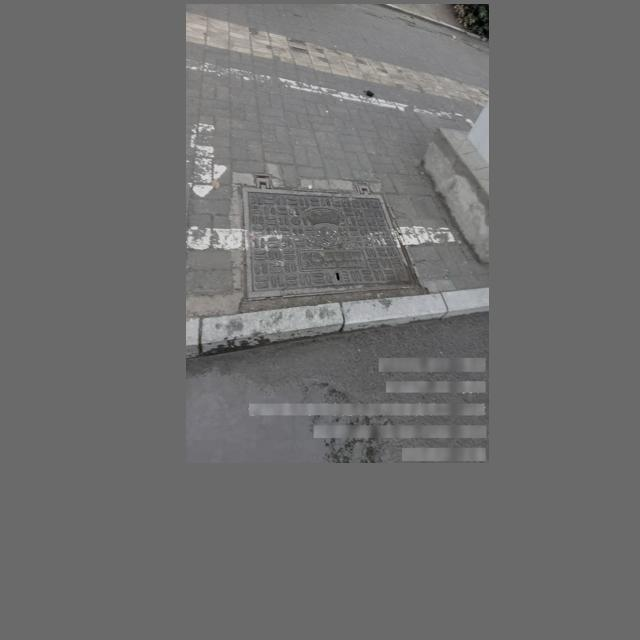good: (242, 174, 417, 303)
